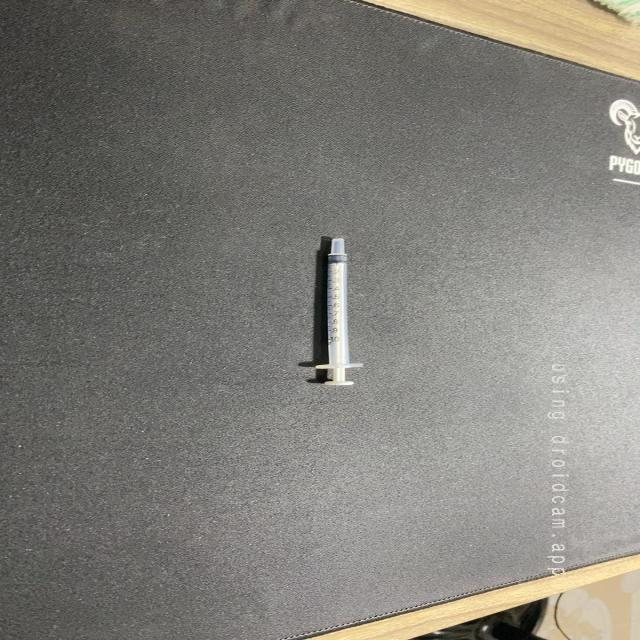syringe: (302, 230, 370, 397)
